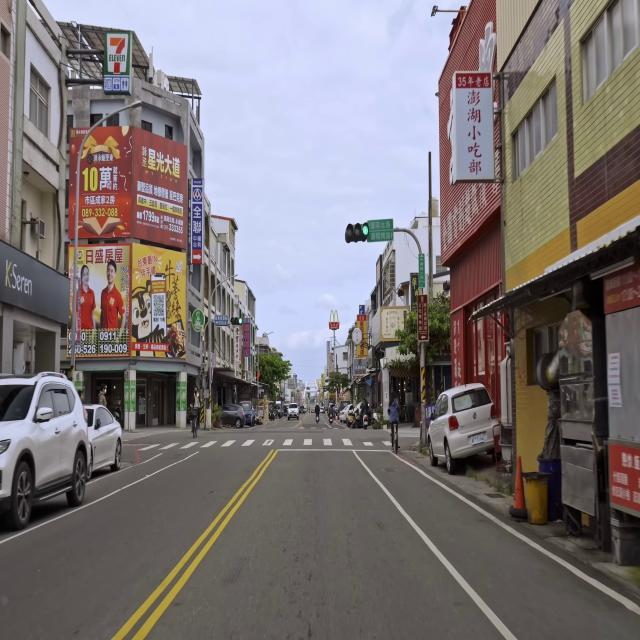green light: (345, 224, 369, 241), (230, 316, 242, 326)
